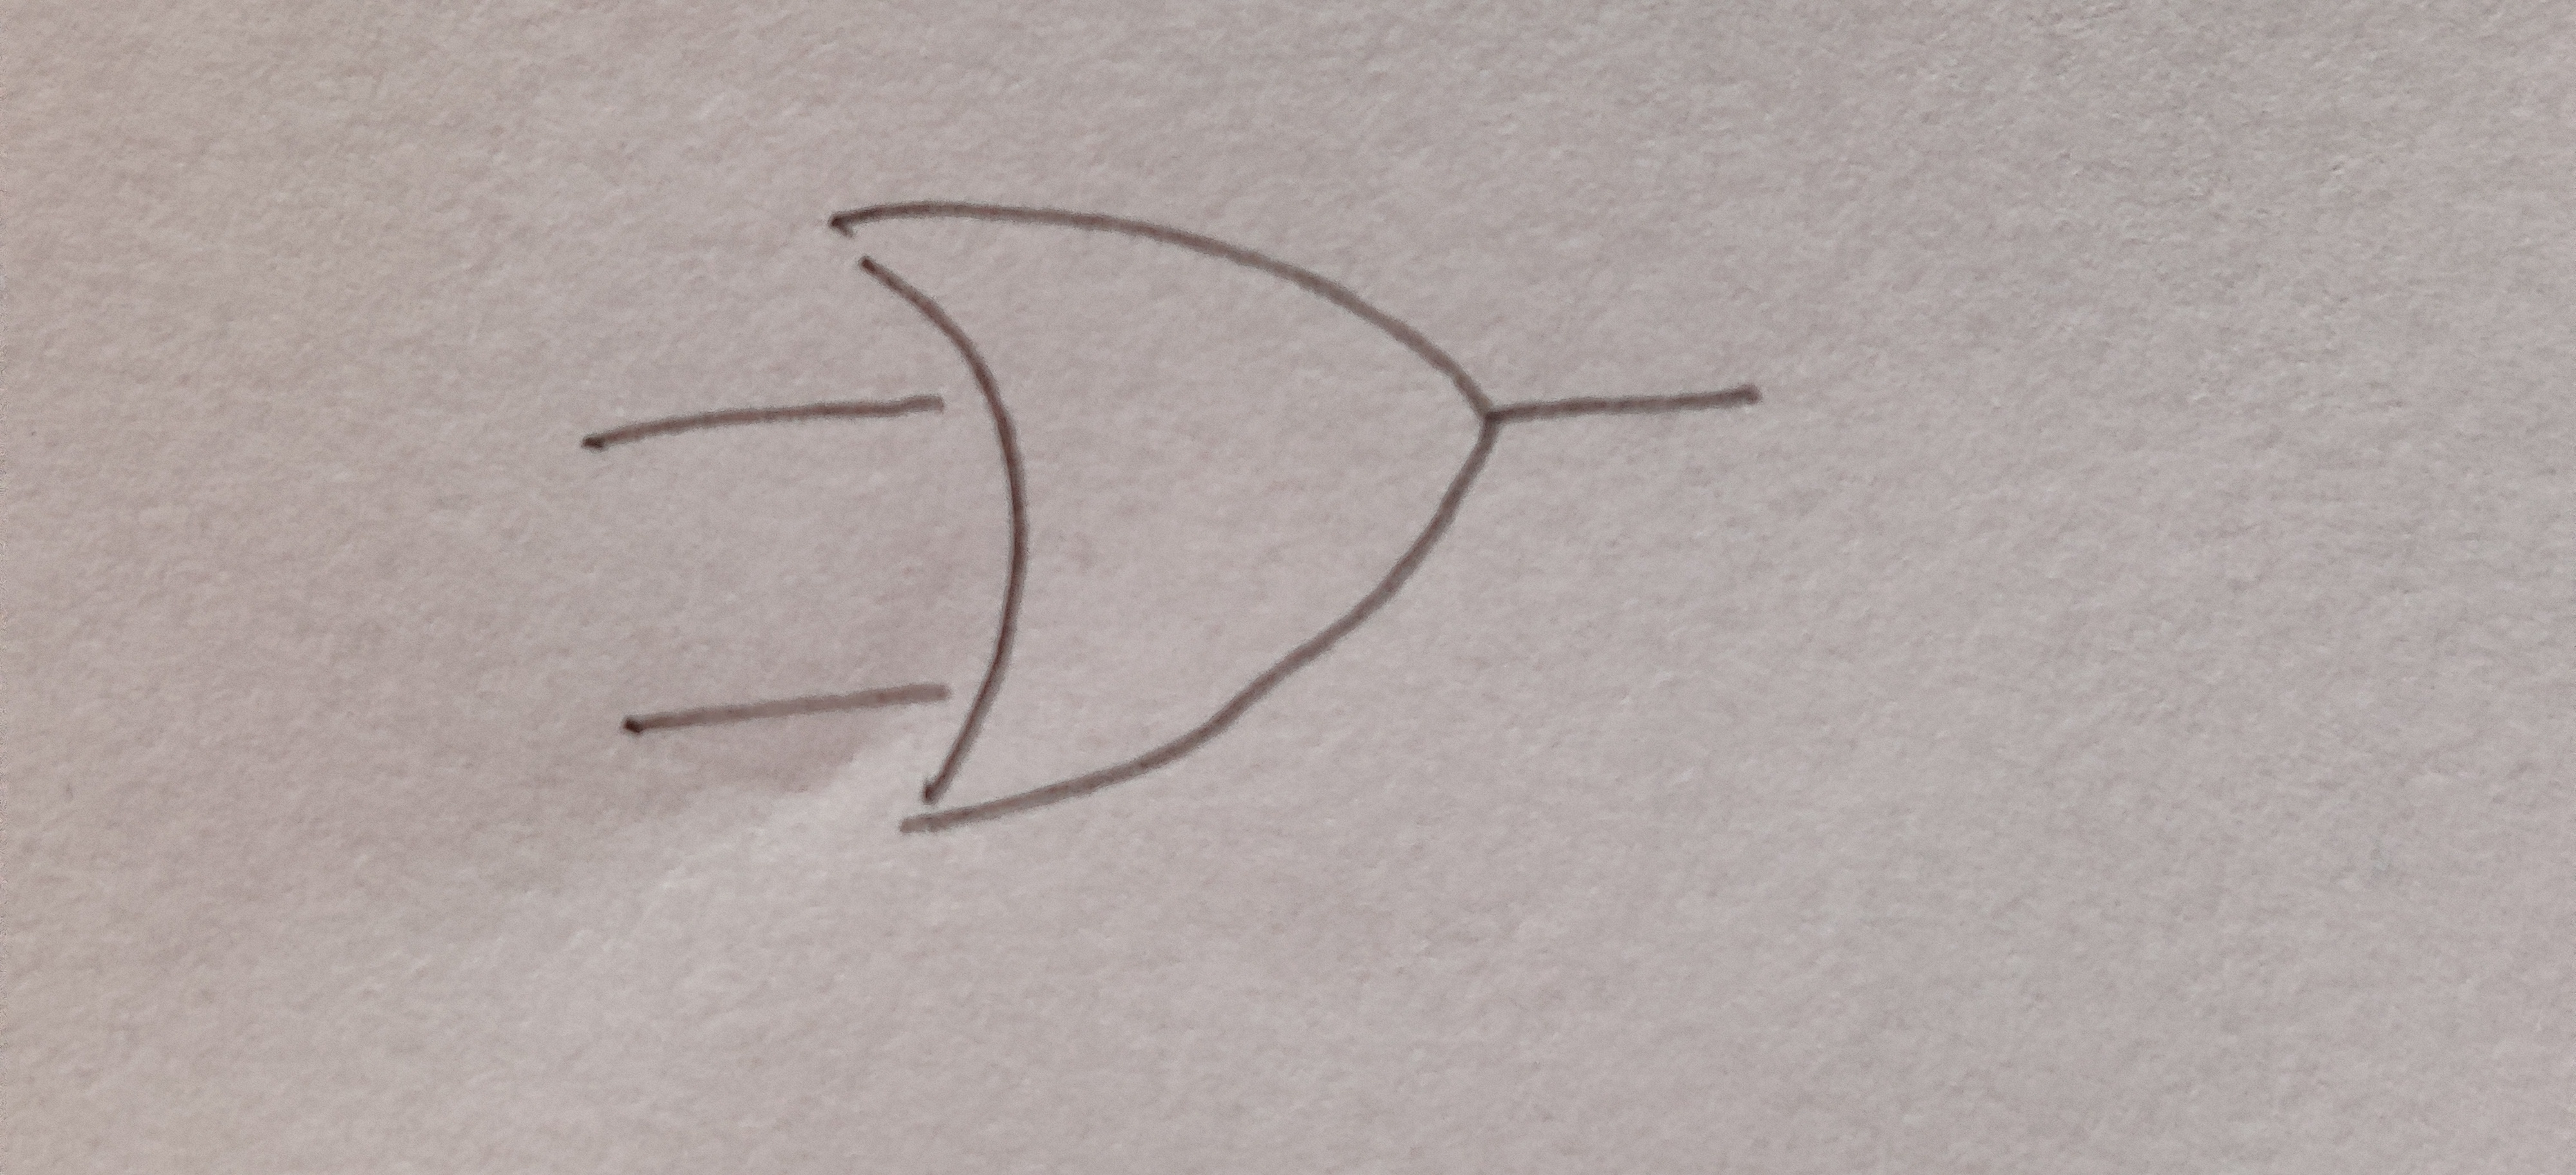or: (826, 202, 1498, 827)
